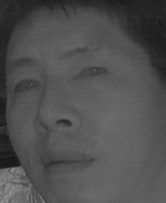eye: (72, 63, 109, 85), (12, 77, 43, 97)
mouth: (38, 147, 97, 179)
